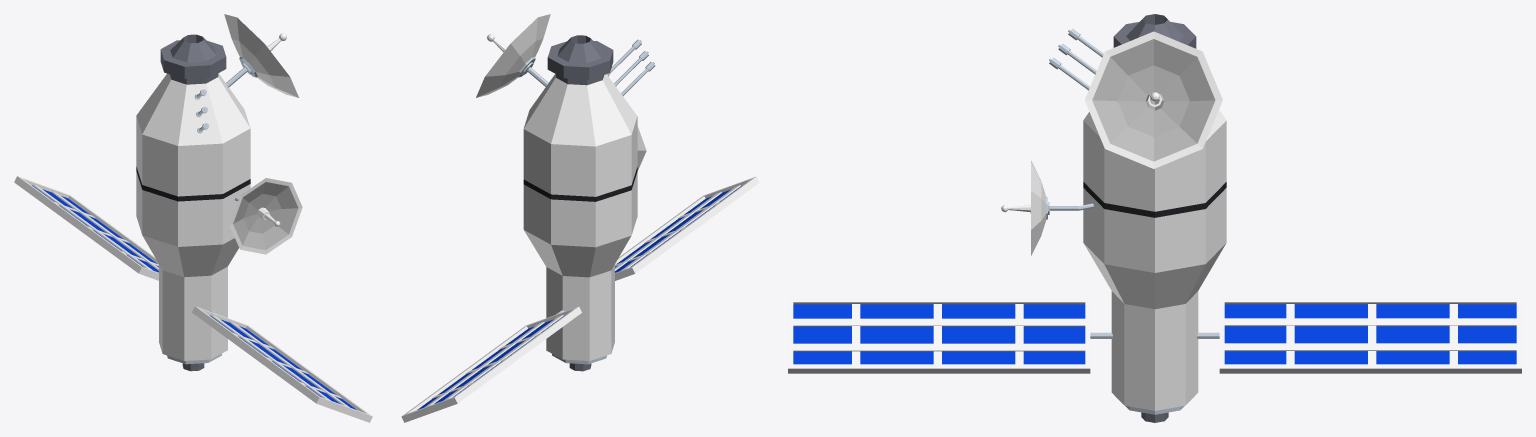
File: Satellite9.glb
The picture shows the model from 3 angles, left to right: view 1: azimuth 30°, elevation 25°; view 2: azimuth 150°, elevation 25°; view 3: azimuth 270°, elevation 25°; orthographic projection. The views are drawn at different scales.
Parts seen in each view (by area): view 1: Satellite9-main, Satellite9-PanelRight, Satellite9-head1, Satellite9-PanelLeft, Satellite9-head2; view 2: Satellite9-main, Satellite9-PanelLeft, Satellite9-PanelRight, Satellite9-head2, Satellite9-antenna; view 3: Satellite9-main, Satellite9-PanelRight, Satellite9-PanelLeft, Satellite9-head2, Satellite9-head1, Satellite9-antenna.
Part boxes in pixels (x1,y1,x2,y2): Satellite9-main: (136, 34, 250, 371); Satellite9-PanelRight: (192, 306, 372, 422); Satellite9-head1: (229, 178, 302, 254); Satellite9-PanelLeft: (14, 176, 158, 280); Satellite9-head2: (224, 14, 298, 97); Satellite9-main: (523, 35, 637, 371); Satellite9-PanelLeft: (401, 306, 581, 422); Satellite9-PanelRight: (615, 176, 759, 280); Satellite9-head2: (476, 14, 550, 97); Satellite9-antenna: (607, 39, 655, 95); Satellite9-main: (1083, 14, 1226, 422); Satellite9-PanelRight: (788, 298, 1112, 373); Satellite9-PanelLeft: (1197, 298, 1521, 373); Satellite9-head2: (1084, 31, 1222, 168); Satellite9-head1: (1001, 160, 1093, 255); Satellite9-antenna: (1049, 28, 1103, 90).
Size of the model in its own units: 4.68 by 10.51 by 16.99.
